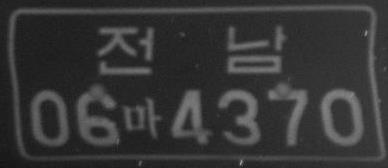0: (319, 87, 366, 147), (28, 88, 71, 148)
3: (216, 88, 263, 146)
4: (169, 87, 214, 146)
6: (75, 88, 120, 146)
7: (266, 86, 309, 147)
마: (122, 95, 161, 140)
전남_D: (96, 22, 288, 76)
